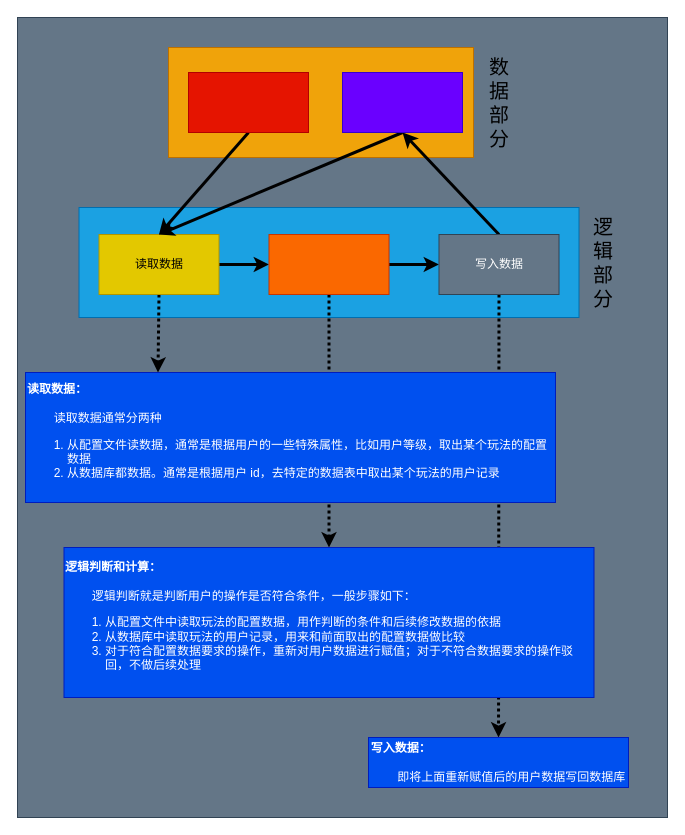
Image size: 685x835. Some labels were removed from this diagram. The shapes that lost their labels are listed below. From the top down, each one's centre as x and y in pixels, then its label:
the point at 248,102: 配置（固定数据）
the point at 402,102: 数据库（可变数据）
the point at 328,264: 逻辑判断、计算
